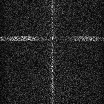wifi: (1, 35, 104, 41)
